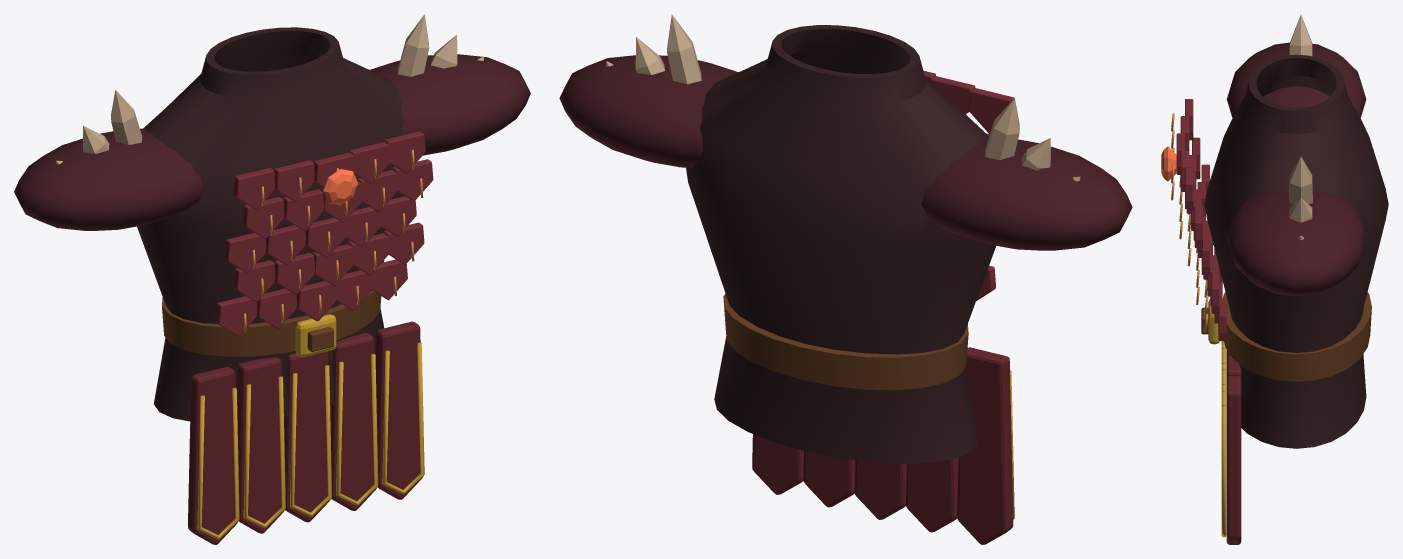
Rendered from armor_dragon.fbx.
3 renders of one model, left to right at view 1: azimuth 30°, elevation 25°; view 2: azimuth 150°, elevation 25°; view 3: azimuth 270°, elevation 25°, orthographic. The views are drawn at different scales.
Parts seen in each view (by area): view 1: armor_dragon; view 2: armor_dragon; view 3: armor_dragon.
Part boxes in pixels (left/top/right/bottom): armor_dragon: left=14, top=14, right=530, bottom=544; armor_dragon: left=559, top=14, right=1132, bottom=544; armor_dragon: left=1161, top=14, right=1388, bottom=544.
Size of the model in its own units: 0.9806 by 0.8279 by 0.4072.
